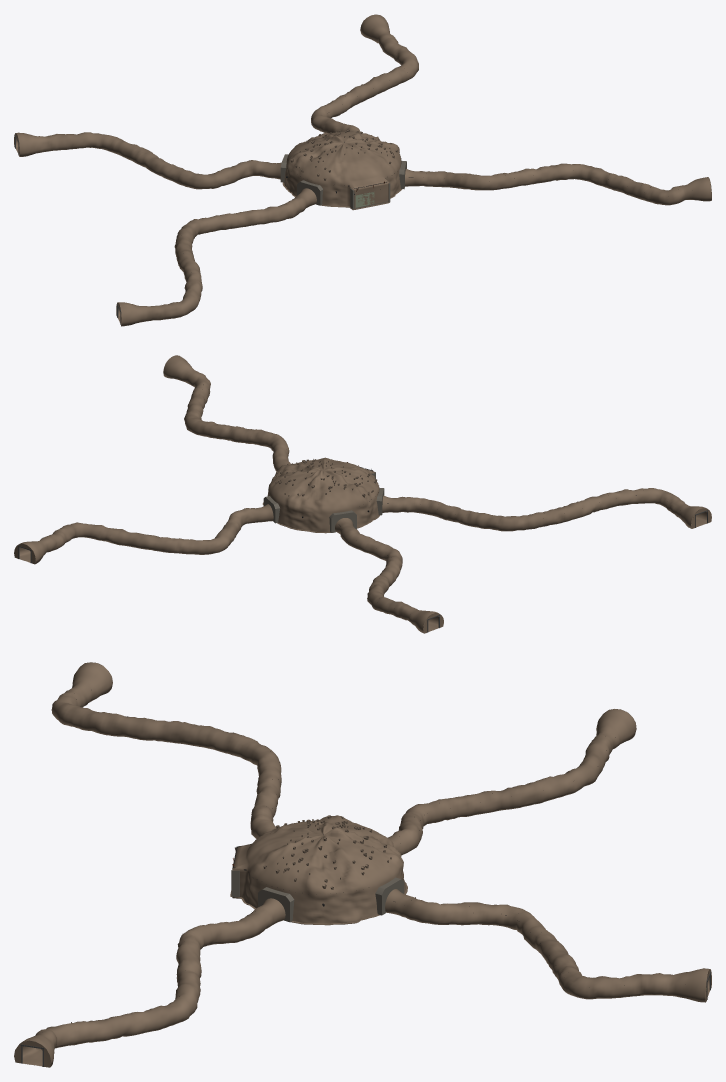
File: cave.glb
3 renders of one model, top to bottom at view 1: azimuth 30°, elevation 25°; view 2: azimuth 150°, elevation 25°; view 3: azimuth 270°, elevation 25°, orthographic. The views are drawn at different scales.
Parts seen in each view (by area): view 1: cave_rock, cave_plain; view 2: cave_rock, cave_plain; view 3: cave_rock, cave_plain.
Boxes of the visible parts, box(x1,y1,x2,y2) form: cave_rock: box(14, 14, 711, 326); cave_plain: box(14, 134, 711, 324); cave_rock: box(14, 355, 711, 633); cave_plain: box(18, 472, 708, 632); cave_rock: box(14, 662, 711, 1067); cave_plain: box(20, 699, 711, 1066).
Size of what is drawn, in the model's own units: 155 by 12.35 by 118.
